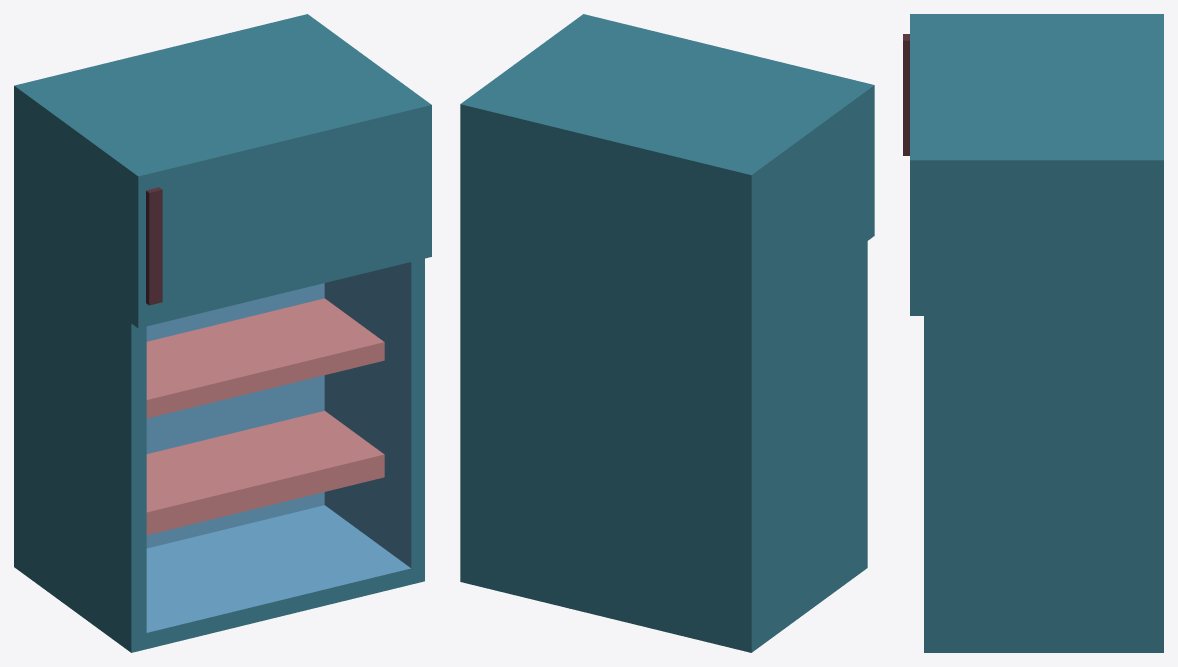
The model's file is fridge.fbx.
3 renders of one model, left to right at view 1: azimuth 30°, elevation 25°; view 2: azimuth 150°, elevation 25°; view 3: azimuth 270°, elevation 25°, orthographic. The views are drawn at different scales.
Visible parts, largest first — view 1: polySurface2; view 2: polySurface2; view 3: polySurface2.
Boxes of the visible parts, <box> form: polySurface2: <box>14,14,431,652</box>; polySurface2: <box>460,14,874,652</box>; polySurface2: <box>903,14,1163,652</box>.
Bounding box in the file's own units: 8.17 × 12.8 × 6.14.
